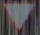Give way: (1, 0, 39, 33)
